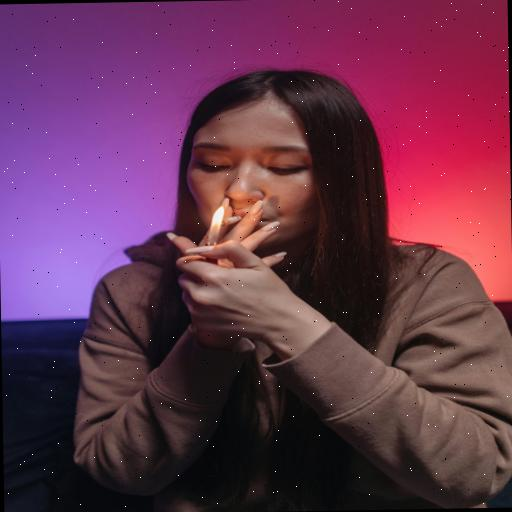membakar rokok: (172, 130, 328, 272)
